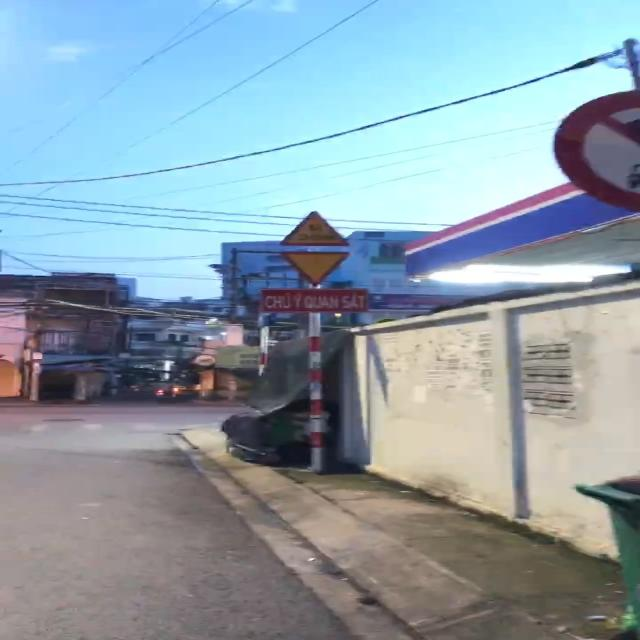Bien bao di cham: (273, 204, 351, 247)
Bien bao giao nhau voi duong uu tien: (276, 245, 366, 288)
